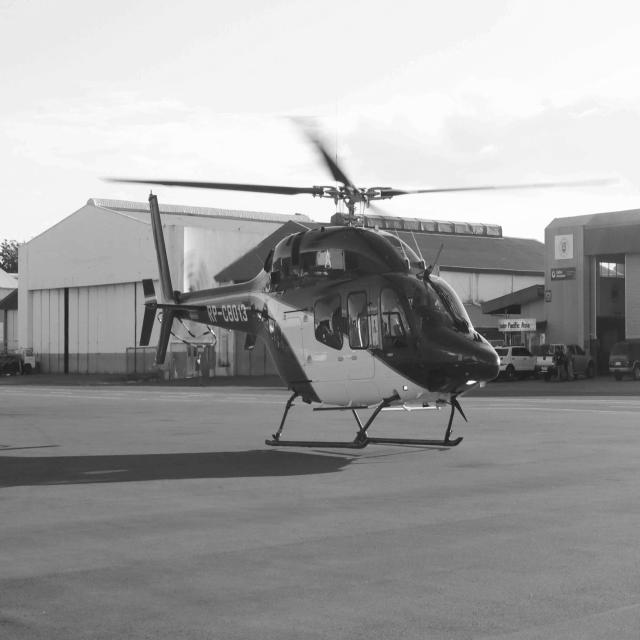helicopter: (122, 128, 491, 462)
